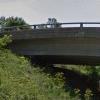Bridge: (4, 14, 95, 68)
